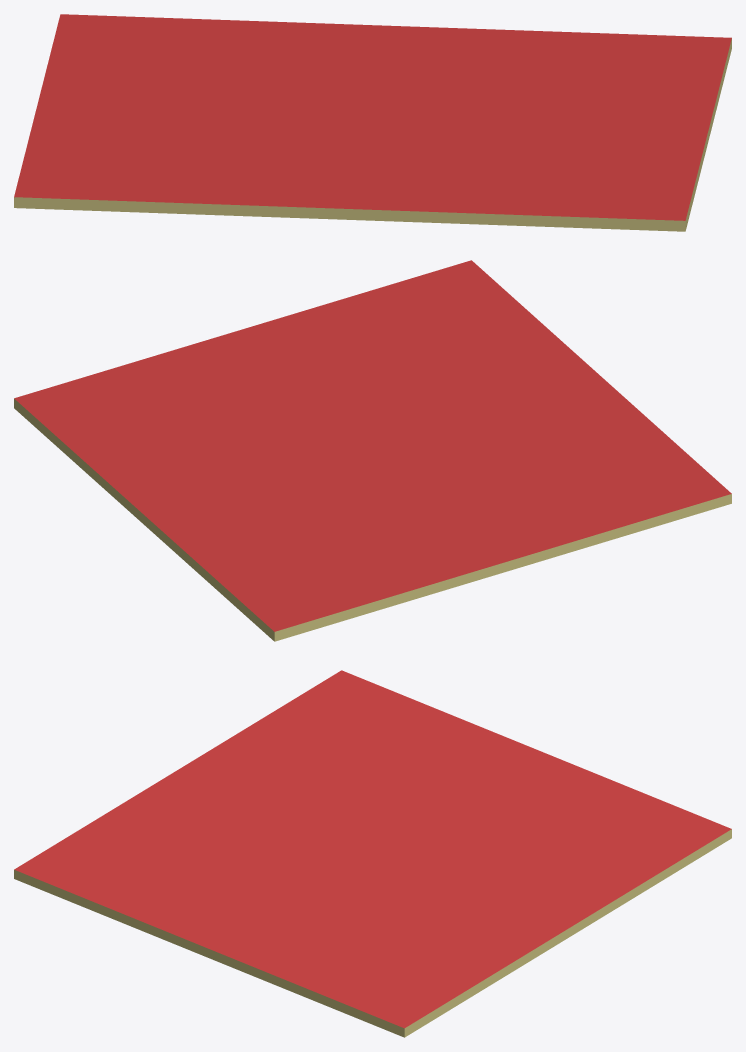
3 renders of one model, top to bottom at view 1: azimuth 30°, elevation 25°; view 2: azimuth 150°, elevation 25°; view 3: azimuth 270°, elevation 25°, orthographic. The views are drawn at different scales.
Size of the model in its own units: 7.25 by 7.01 by 0.576.
